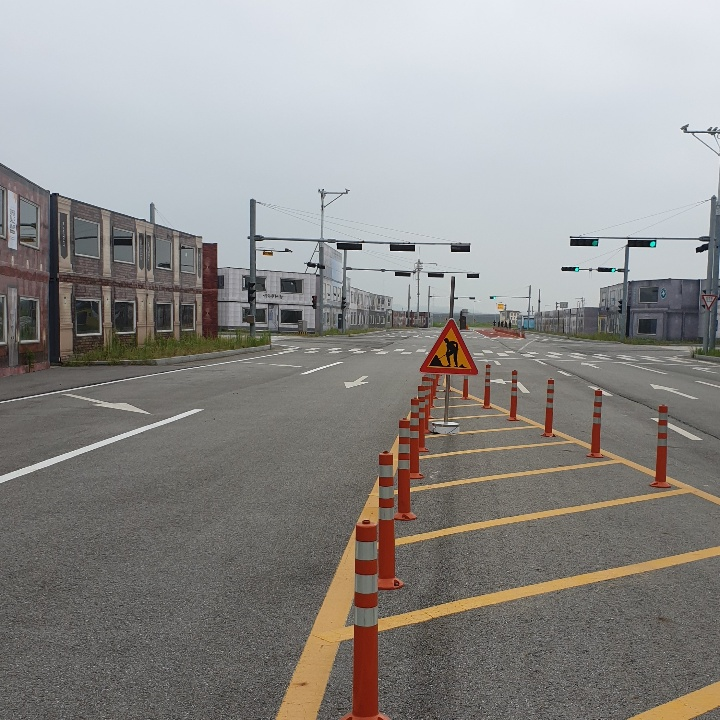const: (426, 329, 473, 368)
